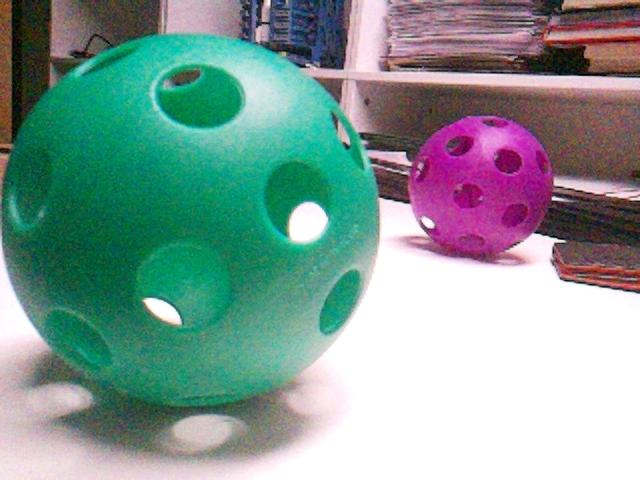Green: (2, 33, 379, 408)
Purple: (408, 115, 553, 257)
